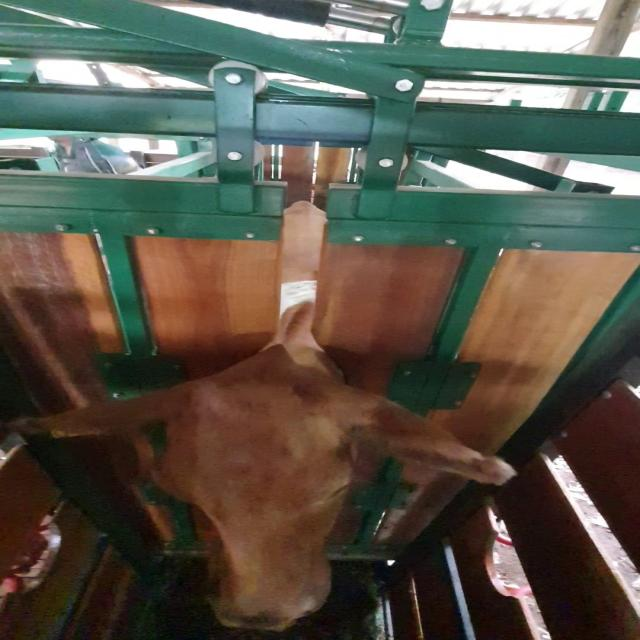cowFace: (158, 371, 358, 628)
